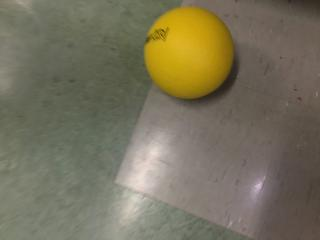power_cell: (137, 2, 238, 100)
